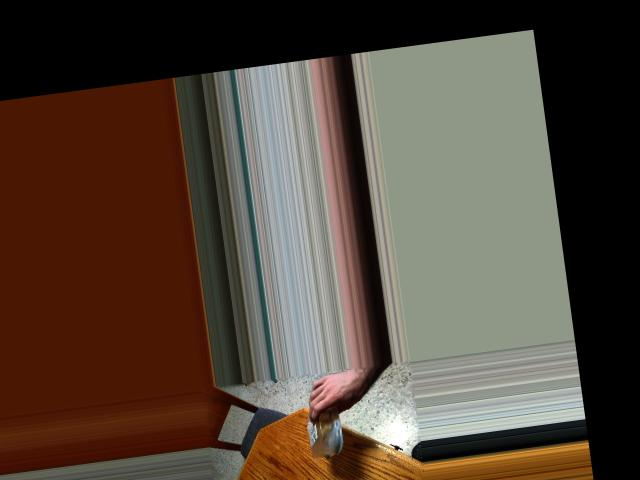cheese: (292, 385, 355, 456)
